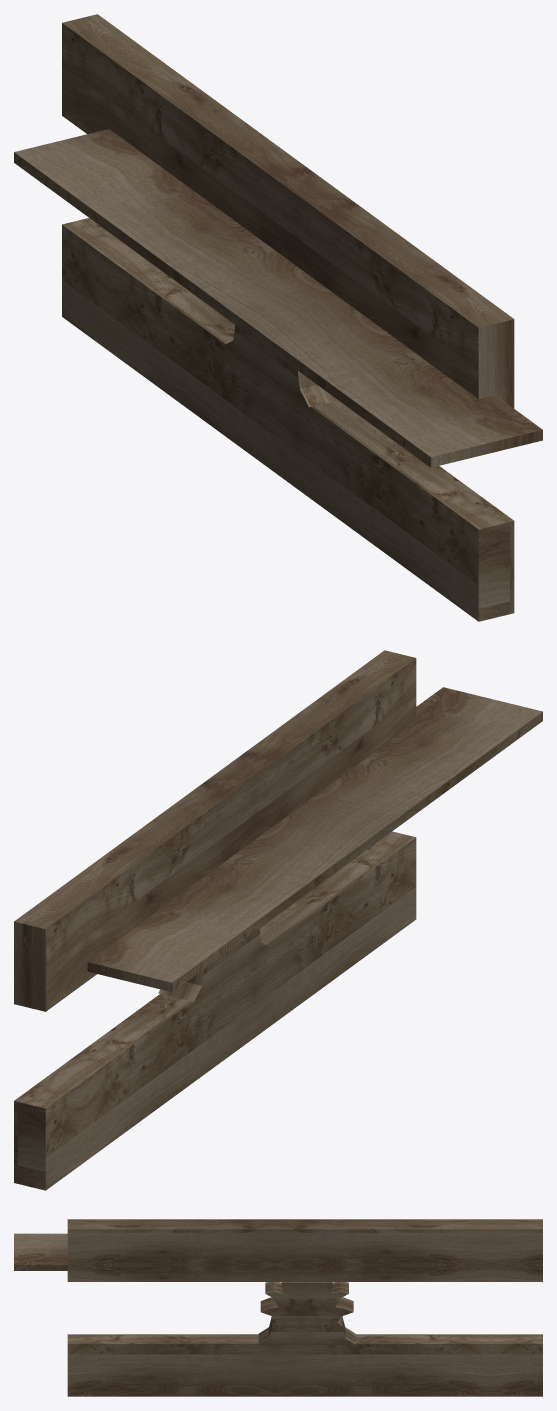
File: SM_Sun_Won_Jang_E.fbx
The picture shows the model from 3 angles, top to bottom: view 1: azimuth 30°, elevation 25°; view 2: azimuth 150°, elevation 25°; view 3: azimuth 270°, elevation 25°; orthographic projection. The views are drawn at different scales.
Visible parts, largest first — view 1: SM_Sun_Won_Jang_E; view 2: SM_Sun_Won_Jang_E; view 3: SM_Sun_Won_Jang_E.
Part boxes in pixels (box(x1,y1,x2,y2)): SM_Sun_Won_Jang_E: box(14, 14, 542, 621); SM_Sun_Won_Jang_E: box(14, 650, 542, 1190); SM_Sun_Won_Jang_E: box(14, 1219, 542, 1396).
Bounding box in the file's own units: 38.67 × 81.7 × 234.
